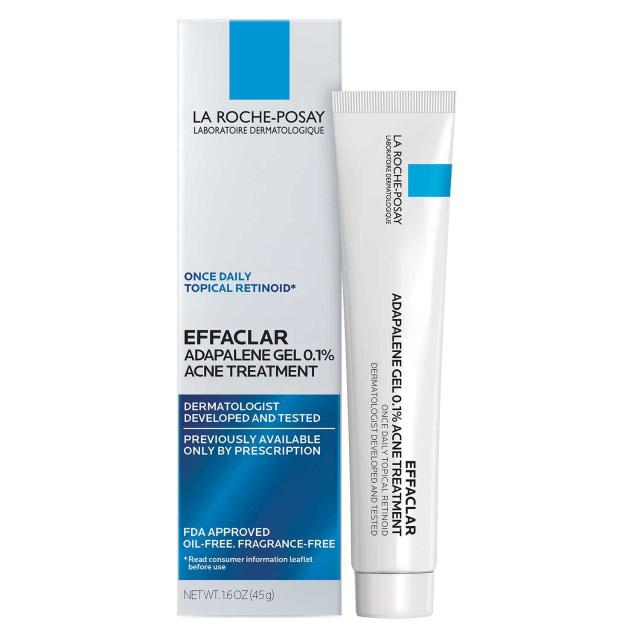cosmotic: (355, 104, 435, 606)
food-package: (174, 21, 322, 610)
